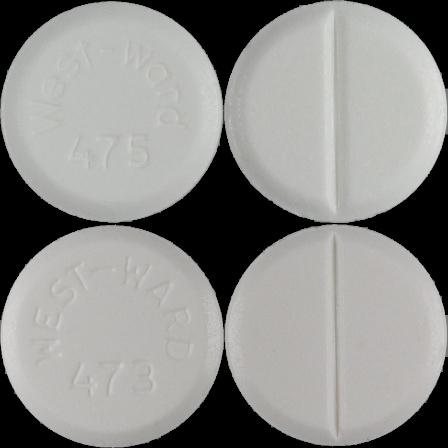21695-305: (0, 0, 224, 224)
